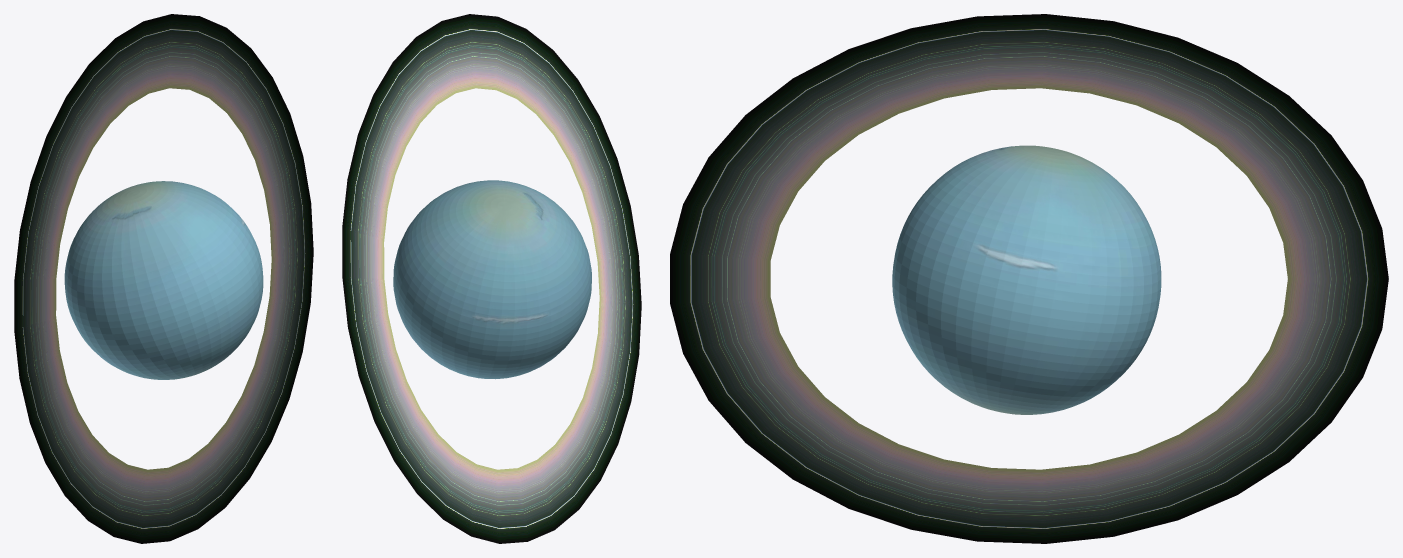
File: uranus.obj
3 views of the same model, side by side, from view 1: azimuth 30°, elevation 25°; view 2: azimuth 150°, elevation 25°; view 3: azimuth 270°, elevation 25° (orthographic). The views are drawn at different scales.
Parts seen in each view (by area): view 1: Plane.001, Plane; view 2: Plane.001, Plane; view 3: Plane.001, Plane.
Boxes of the visible parts, left/top/right/bottom form: Plane.001: left=14, top=14, right=313, bottom=543; Plane: left=64, top=181, right=263, bottom=379; Plane.001: left=342, top=14, right=641, bottom=543; Plane: left=393, top=180, right=591, bottom=379; Plane.001: left=670, top=14, right=1388, bottom=543; Plane: left=892, top=145, right=1161, bottom=414.
Size of the model in its own units: 2.61 by 6.64 by 6.96.
2 materials, 2 textured.
